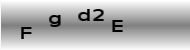2: (92, 8, 105, 22)
E: (111, 19, 124, 33)
F: (19, 25, 33, 40)
d: (77, 8, 91, 22)
g: (47, 14, 61, 27)
